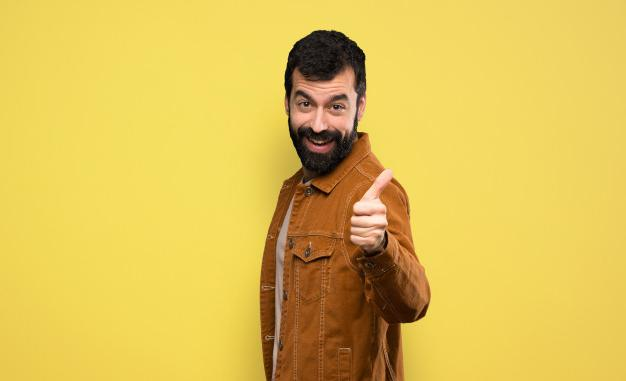thumbsup: (349, 169, 393, 247)
